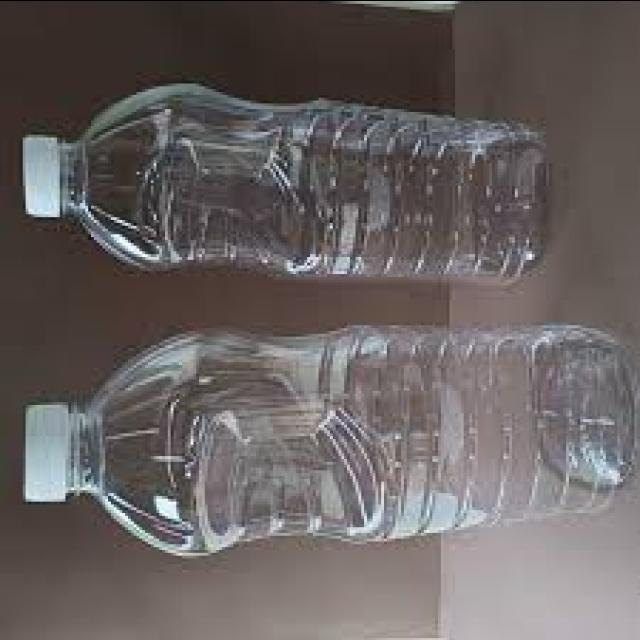bottom: (525, 289, 640, 529), (455, 111, 561, 298)
cap: (12, 385, 94, 513), (18, 121, 70, 224)
